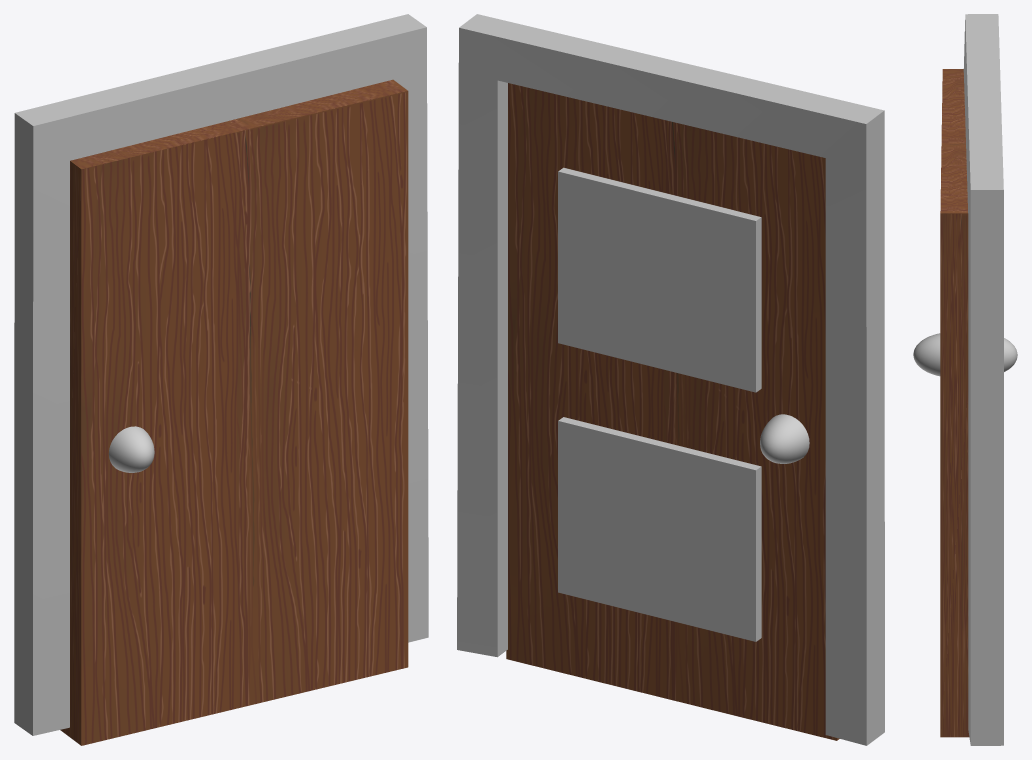
File: PINTU KAMAR.FBX
3 renders of one model, left to right at view 1: azimuth 30°, elevation 25°; view 2: azimuth 150°, elevation 25°; view 3: azimuth 270°, elevation 25°, orthographic. The views are drawn at different scales.
Parts seen in each view (by area): view 1: Box194, Line034, Sphere031; view 2: Box194, Line034, Box195, Box196, Sphere030; view 3: Line034, Box194, Sphere031, Sphere030.
Boxes of the visible parts, x1,y1,x2,y2 form: Box194: (60,79,408,745); Line034: (14,14,428,735); Sphere031: (108,426,154,472); Box194: (506,83,839,740); Line034: (457,14,884,745); Box195: (558,167,761,392); Box196: (558,417,761,641); Sphere030: (760,414,809,463); Line034: (963,14,1003,745); Box194: (940,69,969,737); Sphere031: (913,333,940,376); Sphere030: (1004,338,1017,371).
Bounding box in the file's own units: 405 × 600 × 101.
